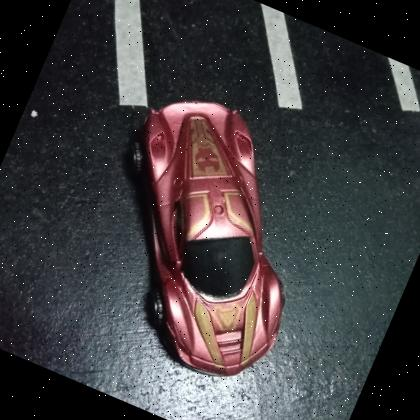Car: (62, 78, 354, 396)
